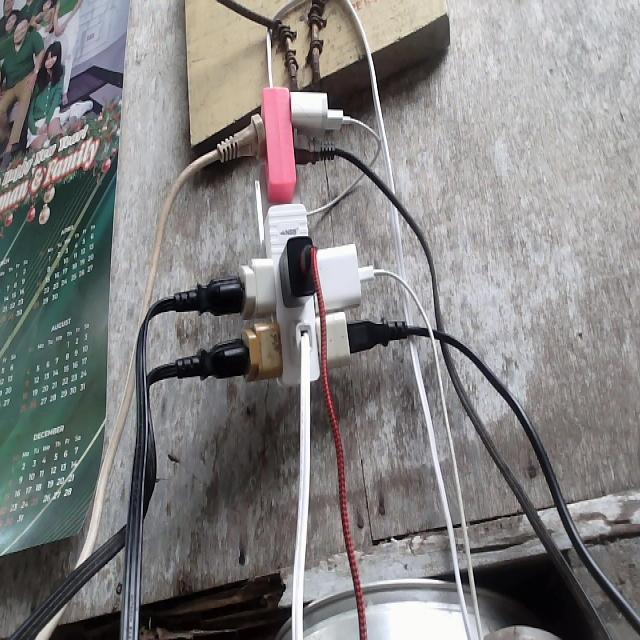-: (169, 85, 408, 387)
